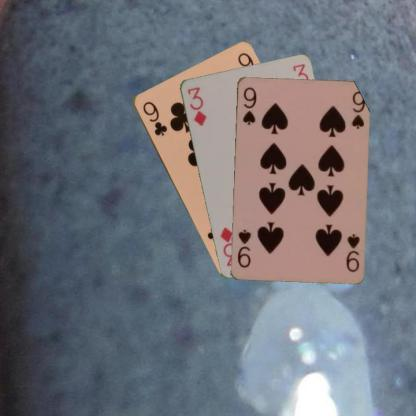3d: (184, 84, 208, 127)
9c: (140, 98, 168, 138)
9s: (342, 230, 361, 274), (240, 84, 258, 126)
